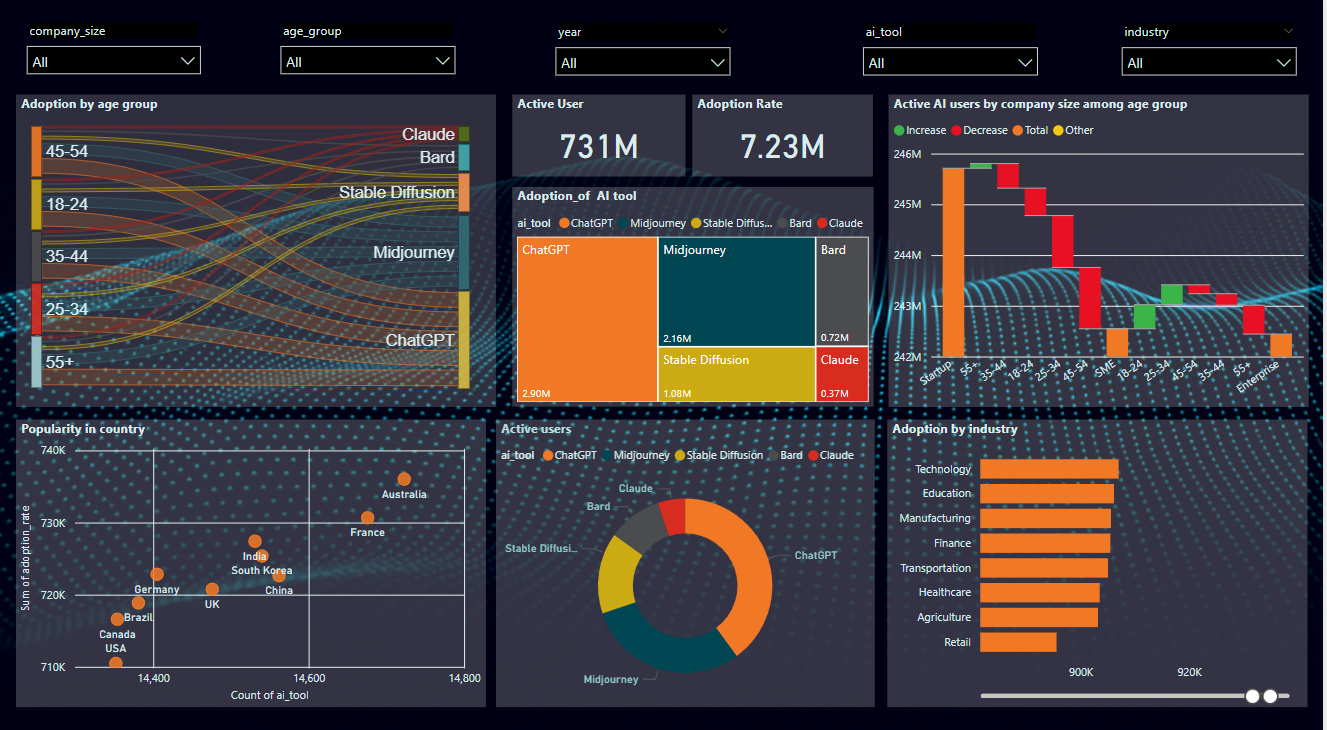

Layout of this report page (visuals, bound fields, positions):
{"tool":"powerbi","page":{"name":"Page 1","canvas":[1280,720],"ordinal":0},"visuals":[{"type":"scatterChart","title":"Popularity in country","fields":{"Category":["ai_adoption_dataset.country"],"X":["CountNonNull(ai_adoption_dataset.ai_tool)"],"Y":["Sum(ai_adoption_dataset.adoption_rate)"]},"box":[19.3,407.8,453.6,277.5],"z":0},{"type":"barChart","title":"Adoption by industry","fields":{"Category":["ai_adoption_dataset.industry"],"Y":["Sum(ai_adoption_dataset.adoption_rate)"]},"box":[860.2,407.8,405.4,277.5],"z":1000},{"type":"donutChart","title":"Active users","fields":{"Category":["ai_adoption_dataset.ai_tool"],"Y":["Sum(ai_adoption_dataset.daily_active_users)"]},"box":[482.6,407.8,365.6,277.5],"z":2000},{"type":"treemap","title":"Adoption_of  AI tool","fields":{"Group":["ai_adoption_dataset.ai_tool"],"Values":["Sum(ai_adoption_dataset.adoption_rate)"]},"box":[497.8,183.2,349.1,212.1],"z":3000},{"type":"slicer","fields":{"Values":["ai_adoption_dataset.industry"]},"box":[1076.3,20.2,189,73.6],"z":4000},{"type":"sankey02300D1BE6F5427989F3DE31CCA9E0F32020","title":"Adoption by age group","fields":{"Destination":["ai_adoption_dataset.ai_tool"],"Source":["ai_adoption_dataset.age_group"],"Weight":["Sum(ai_adoption_dataset.adoption_rate)"]},"box":[18.8,93.8,463.1,301.5],"z":5000},{"type":"card","title":"Active User","fields":{"Values":["Sum(ai_adoption_dataset.daily_active_users)"]},"box":[497.8,93.8,167.4,79.4],"z":6000},{"type":"slicer","fields":{"Values":["ai_adoption_dataset.ai_tool"]},"box":[826.4,20.5,189.4,73.6],"z":7000},{"type":"slicer","fields":{"Values":["ai_adoption_dataset.year"]},"box":[529.6,20.5,189.4,73.6],"z":8000},{"type":"slicer","fields":{"Values":["ai_adoption_dataset.age_group"]},"box":[264.2,19.3,189.4,73.6],"z":9000},{"type":"card","title":"Adoption Rate","fields":{"Values":["Sum(ai_adoption_dataset.adoption_rate)"]},"box":[672.3,93.8,174.6,79.4],"z":10000},{"type":"slicer","fields":{"Values":["ai_adoption_dataset.company_size"]},"box":[19.3,19.3,188.2,73.6],"z":11000},{"type":"waterfallChart","title":"Active AI users by company size among age group","fields":{"Y":["Sum(ai_adoption_dataset.daily_active_users)"],"Category":["ai_adoption_dataset.company_size"],"Breakdown":["ai_adoption_dataset.age_group"]},"box":[861.3,93.8,405.4,301.5],"z":11001}]}

Visuals, with their boxes in screenshot pixels (x1, y1, x2, y2), scaled from the page's 1280x720 canvas onto the 1327x730 screenshot:
"Popularity in country" scatterChart: region(20, 413, 490, 695)
"Adoption by industry" barChart: region(892, 413, 1312, 695)
"Active users" donutChart: region(500, 413, 879, 695)
"Adoption_of  AI tool" treemap: region(516, 186, 878, 401)
slicer - ai_adoption_dataset.industry: region(1116, 20, 1312, 95)
"Adoption by age group" sankey02300D1BE6F5427989F3DE31CCA9E0F32020: region(19, 95, 500, 401)
"Active User" card: region(516, 95, 690, 176)
slicer - ai_adoption_dataset.ai_tool: region(857, 21, 1053, 95)
slicer - ai_adoption_dataset.year: region(549, 21, 745, 95)
slicer - ai_adoption_dataset.age_group: region(274, 20, 470, 94)
"Adoption Rate" card: region(697, 95, 878, 176)
slicer - ai_adoption_dataset.company_size: region(20, 20, 215, 94)
"Active AI users by company size among age group" waterfallChart: region(893, 95, 1313, 401)
